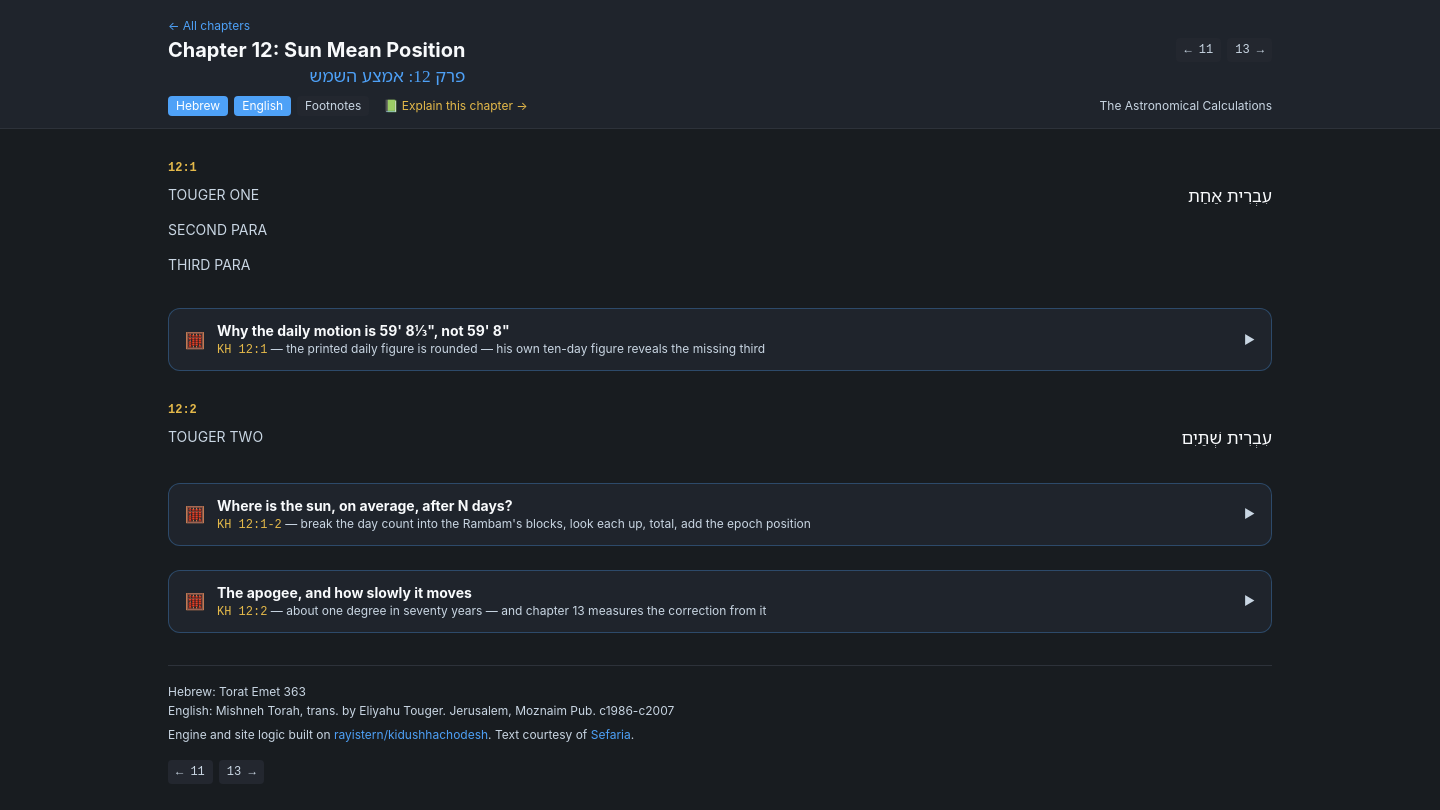
Test case: TextChapter › shows the monthly motion KH 12:1 states outright when N is 29
Click the button "Where is the sun, on average" at (720, 514), box [169,484,1271,545]
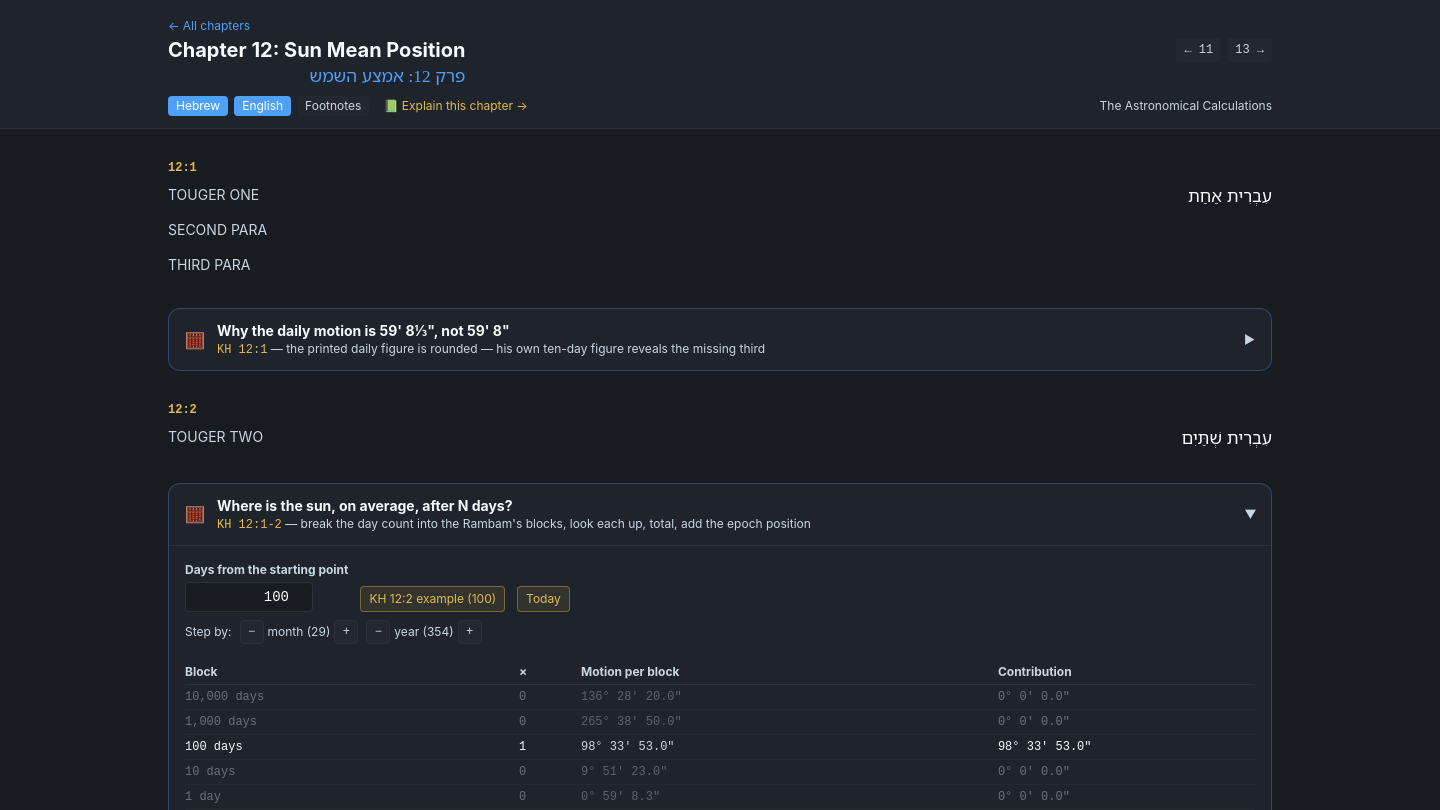
Replace the text in the number field showing "100" with "29" at (249, 597), box [185,582,313,612]
(page scrolled)
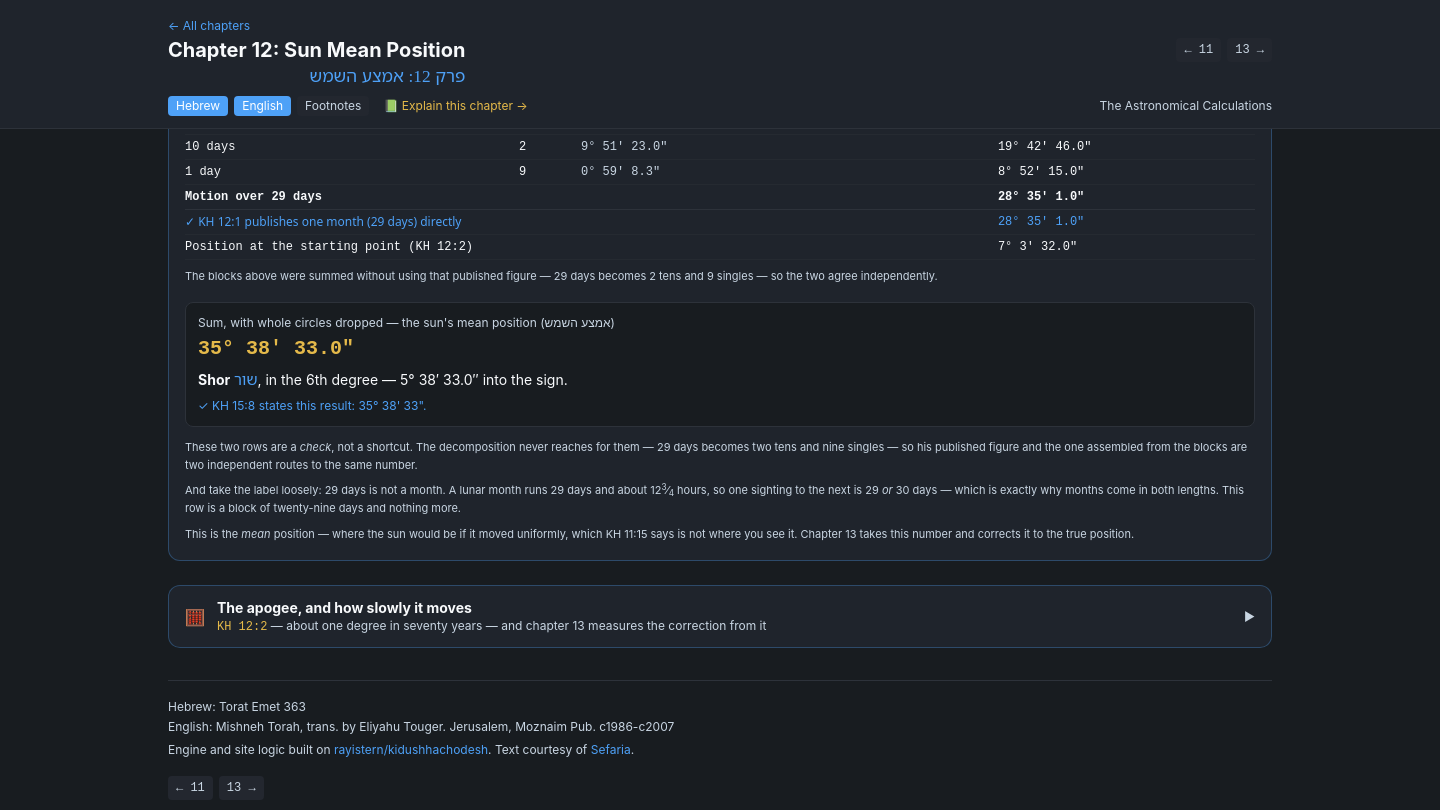
Result: the text "28° 35′ 1.0″" is shown 2 times at [998,184,1255,209]; [998,209,1255,234]
Result: the text "✓ KH 12:1 publishes one month (29 days) directly" is shown at [185,209,998,234]
Result: the text "35° 38′ 33.0″" is shown at [198,336,354,360]
